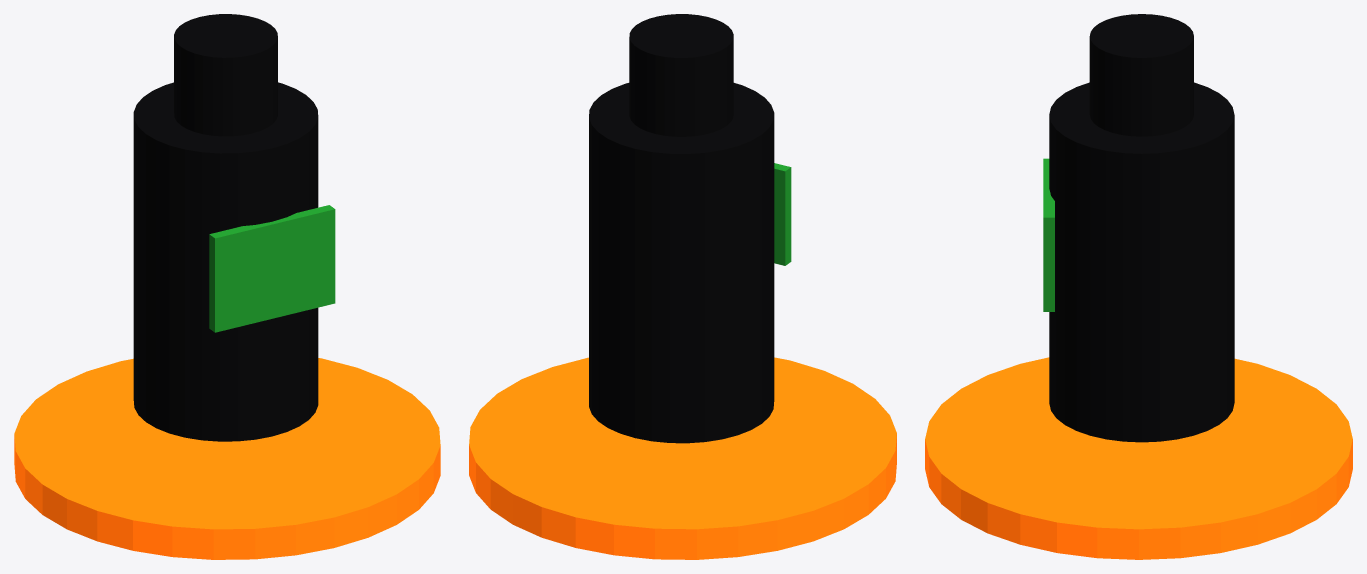
The model's file is fitness_shaker_bottle.dae.
3 views of the same model, side by side, from view 1: azimuth 30°, elevation 25°; view 2: azimuth 150°, elevation 25°; view 3: azimuth 270°, elevation 25° (orthographic).
Parts seen in each view (by area): view 1: 02_03_Popular_Fitness_Shaker_Bottle_ROOT_base, 02_03_Popular_Fitness_Shaker_Bottle_part_01, 02_03_Popular_Fitness_Shaker_Bottle_part_03, 02_03_Popular_Fitness_Shaker_Bottle_part_02; view 2: 02_03_Popular_Fitness_Shaker_Bottle_part_01, 02_03_Popular_Fitness_Shaker_Bottle_ROOT_base, 02_03_Popular_Fitness_Shaker_Bottle_part_02, 02_03_Popular_Fitness_Shaker_Bottle_part_03; view 3: 02_03_Popular_Fitness_Shaker_Bottle_part_01, 02_03_Popular_Fitness_Shaker_Bottle_ROOT_base, 02_03_Popular_Fitness_Shaker_Bottle_part_02, 02_03_Popular_Fitness_Shaker_Bottle_part_03.
Boxes of the visible parts, x1=… form: 02_03_Popular_Fitness_Shaker_Bottle_ROOT_base: x1=14, y1=358, x2=440, y2=559; 02_03_Popular_Fitness_Shaker_Bottle_part_01: x1=133, y1=82, x2=318, y2=441; 02_03_Popular_Fitness_Shaker_Bottle_part_03: x1=209, y1=205, x2=335, y2=332; 02_03_Popular_Fitness_Shaker_Bottle_part_02: x1=174, y1=14, x2=277, y2=136; 02_03_Popular_Fitness_Shaker_Bottle_part_01: x1=589, y1=83, x2=774, y2=443; 02_03_Popular_Fitness_Shaker_Bottle_ROOT_base: x1=469, y1=357, x2=896, y2=559; 02_03_Popular_Fitness_Shaker_Bottle_part_02: x1=629, y1=14, x2=733, y2=136; 02_03_Popular_Fitness_Shaker_Bottle_part_03: x1=774, y1=163, x2=791, y2=265; 02_03_Popular_Fitness_Shaker_Bottle_part_01: x1=1049, y1=82, x2=1234, y2=442; 02_03_Popular_Fitness_Shaker_Bottle_ROOT_base: x1=925, y1=357, x2=1352, y2=559; 02_03_Popular_Fitness_Shaker_Bottle_part_02: x1=1089, y1=14, x2=1193, y2=136; 02_03_Popular_Fitness_Shaker_Bottle_part_03: x1=1043, y1=158, x2=1054, y2=311.
Size of the model in its own units: 0.76 by 0.85 by 0.76.
